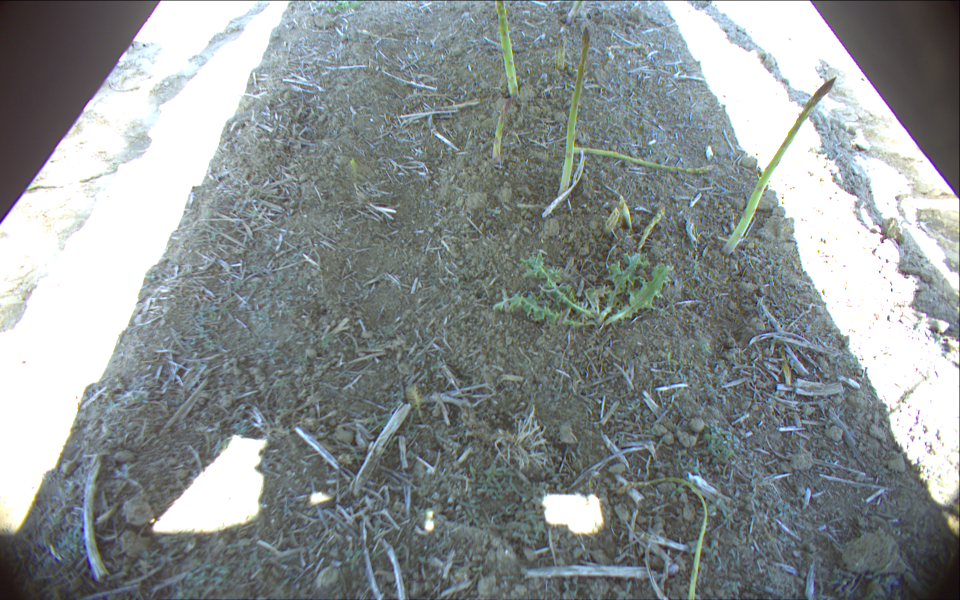aspa: (723, 75, 838, 256), (617, 476, 708, 600), (556, 25, 590, 198), (573, 147, 715, 174), (493, 1, 520, 99), (492, 95, 517, 164), (633, 206, 666, 258), (555, 30, 567, 71), (567, 1, 583, 24)
